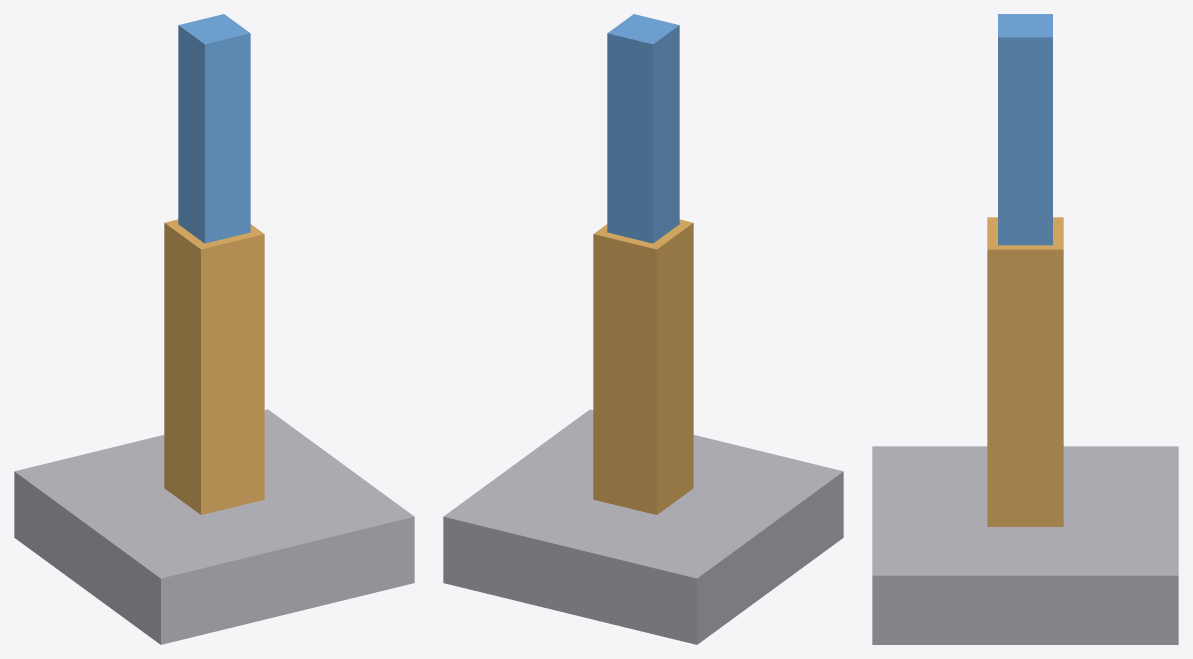
File: robot_arm.gltf
3 views of the same model, side by side, from view 1: azimuth 30°, elevation 25°; view 2: azimuth 150°, elevation 25°; view 3: azimuth 270°, elevation 25° (orthographic). The views are drawn at different scales.
Parts seen in each view (by area): view 1: Base, UpperArm, Forearm; view 2: Base, UpperArm, Forearm; view 3: Base, UpperArm, Forearm.
Part boxes in pixels (bbox=[...]): Base: bbox=[14, 409, 414, 644]; UpperArm: bbox=[164, 219, 264, 514]; Forearm: bbox=[178, 14, 250, 243]; Base: bbox=[443, 409, 843, 644]; UpperArm: bbox=[593, 219, 693, 514]; Forearm: bbox=[607, 14, 679, 243]; Base: bbox=[872, 446, 1178, 644]; UpperArm: bbox=[987, 217, 1063, 526]; Forearm: bbox=[998, 14, 1052, 245].
Bounding box in the file's own units: 2 × 4 × 2.
